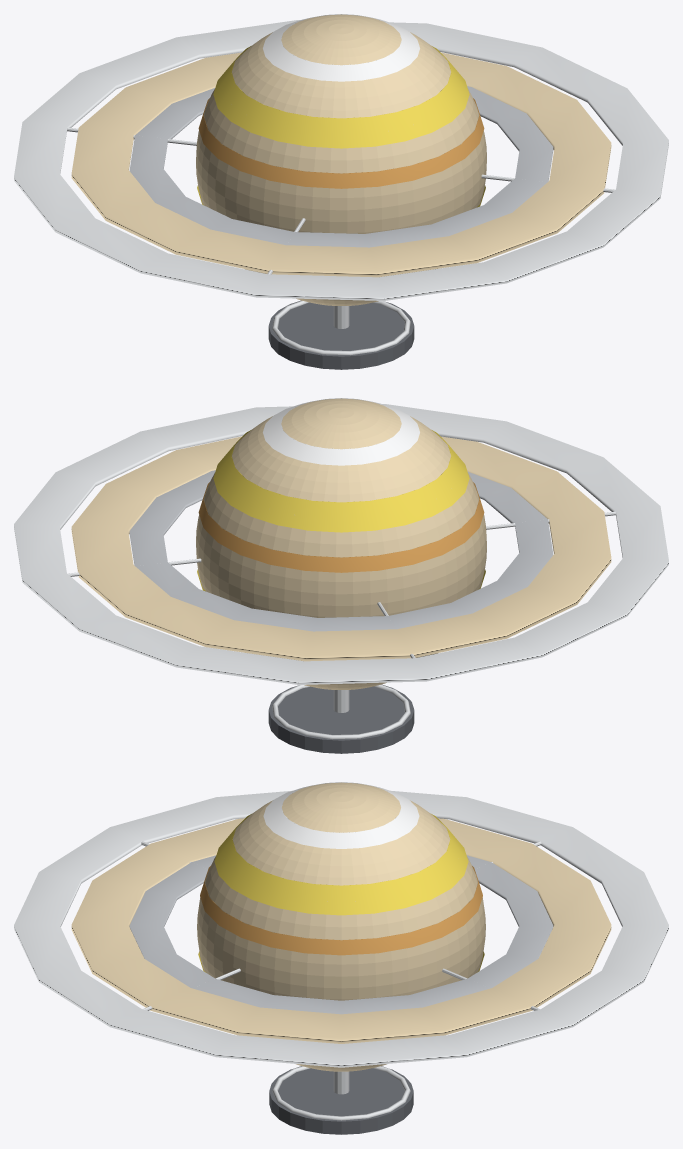
The model's file is solar-system-and-astronauts-saturn-model-49602f0d__39234.glb.
The picture shows the model from 3 angles, top to bottom: view 1: azimuth 30°, elevation 25°; view 2: azimuth 150°, elevation 25°; view 3: azimuth 270°, elevation 25°; orthographic projection.
Parts seen in each view (by area): view 1: saturn-model; view 2: saturn-model; view 3: saturn-model.
Part boxes in pixels (x1=…): saturn-model: x1=14, y1=14, x2=668, y2=369; saturn-model: x1=14, y1=398, x2=668, y2=753; saturn-model: x1=14, y1=782, x2=668, y2=1134.
Bounding box in the file's own units: 1.36 × 0.7057 × 1.36.
